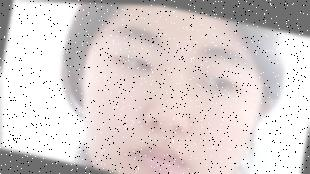eye: (216, 75, 229, 88), (136, 57, 147, 69)
iris: (197, 72, 237, 92), (117, 54, 153, 72)
